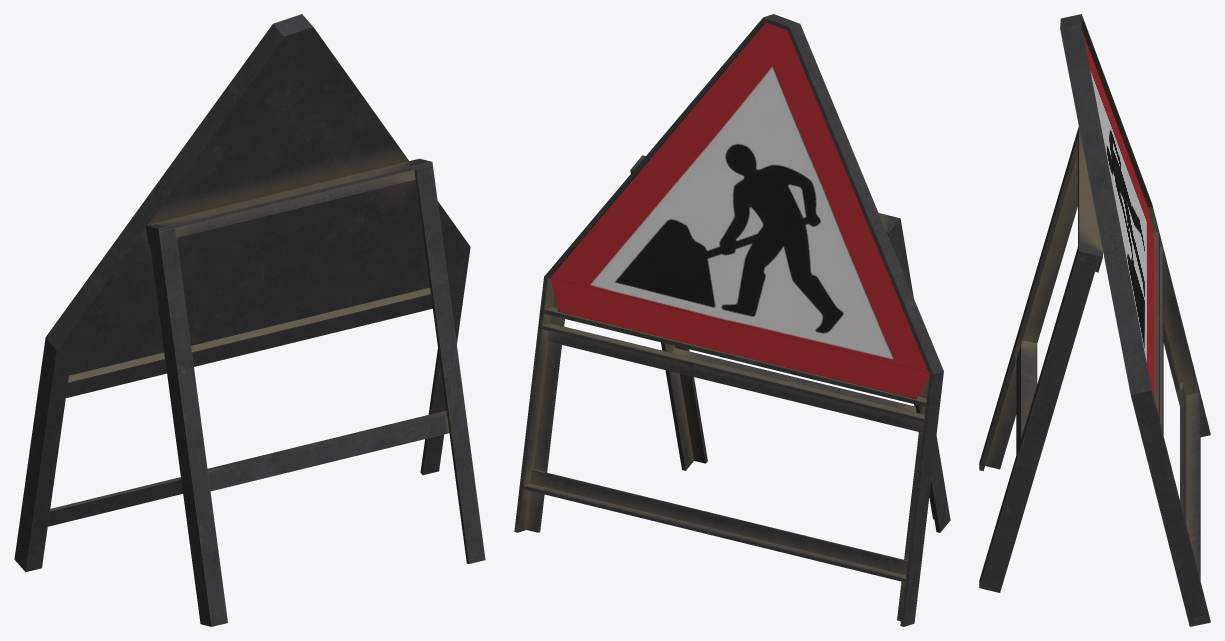
File: road-works-sign-new.glb
3 views of the same model, side by side, from view 1: azimuth 30°, elevation 25°; view 2: azimuth 150°, elevation 25°; view 3: azimuth 270°, elevation 25° (orthographic). The views are drawn at different scales.
Parts seen in each view (by area): view 1: Object_34, Object_32; view 2: Object_37, Object_34, Object_32; view 3: Object_34, Object_32, Object_37.
Part boxes in pixels (x1,y1,x2,y2): Object_34: (14, 14, 470, 572); Object_32: (145, 158, 485, 626); Object_37: (550, 23, 929, 398); Object_34: (514, 14, 943, 626); Object_32: (630, 155, 950, 532); Object_34: (1060, 14, 1210, 626); Object_32: (979, 126, 1102, 592); Object_37: (1083, 34, 1154, 398).
Bounding box in the file's own units: 0.795 × 1.01 × 0.4106.
Materials: 1 (1 with a texture image).
